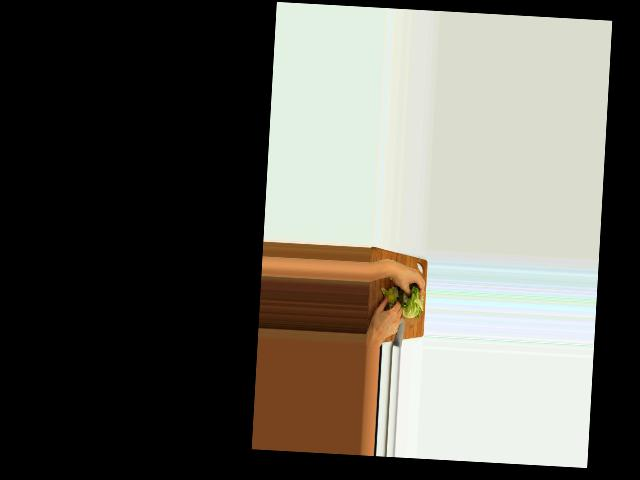lettuce: (398, 284, 423, 319)
